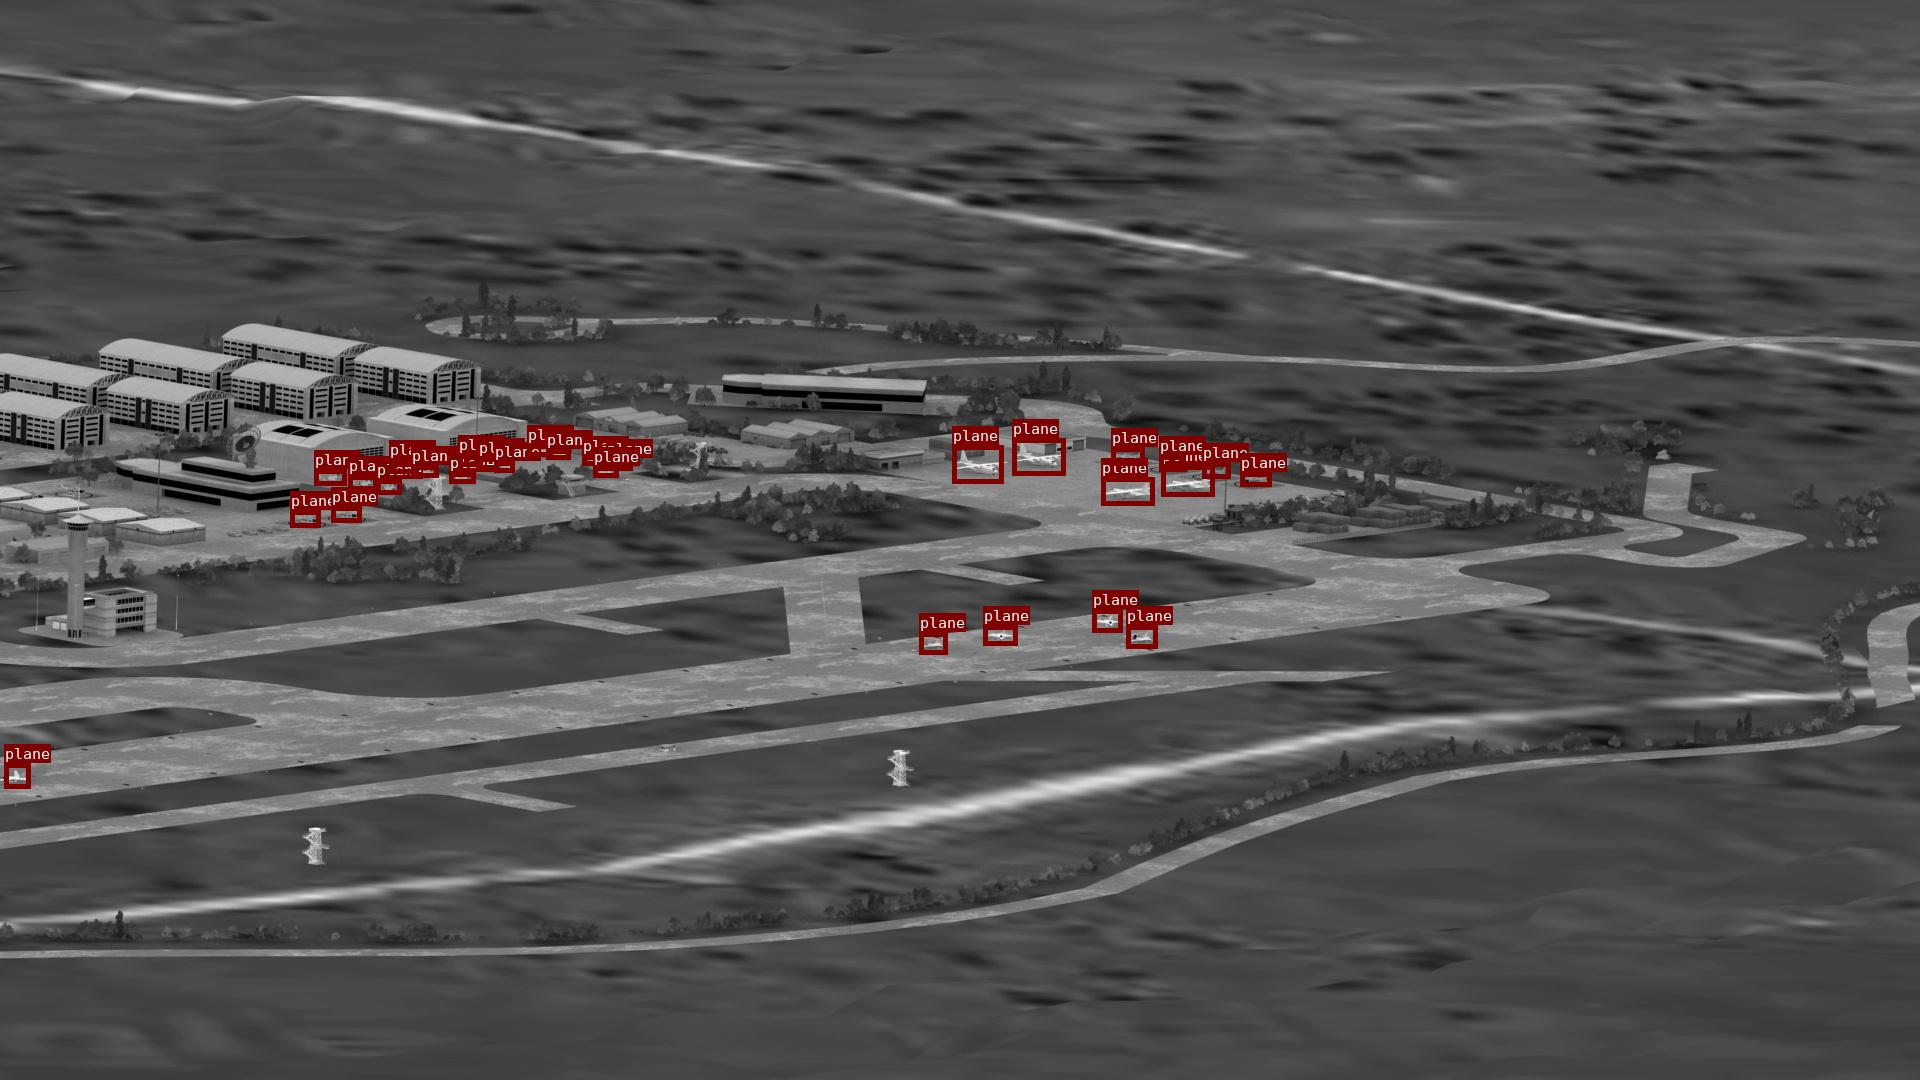plane: (1011, 438, 1065, 475), (952, 444, 1004, 483), (1160, 465, 1215, 496), (1101, 477, 1154, 505), (1092, 609, 1122, 632), (1126, 625, 1156, 647), (982, 625, 1017, 645), (4, 764, 30, 789), (919, 632, 947, 654), (1112, 447, 1145, 465), (290, 510, 320, 527), (314, 469, 345, 485), (331, 506, 361, 522), (348, 475, 377, 491), (1240, 472, 1271, 487), (1203, 462, 1230, 477), (389, 459, 418, 473), (1159, 455, 1185, 471), (376, 479, 401, 495), (411, 465, 438, 477), (527, 444, 553, 456), (607, 458, 632, 469), (593, 465, 618, 477), (448, 472, 475, 483), (477, 458, 498, 469), (546, 448, 570, 459), (458, 454, 477, 465), (582, 455, 603, 465), (495, 462, 514, 472)
